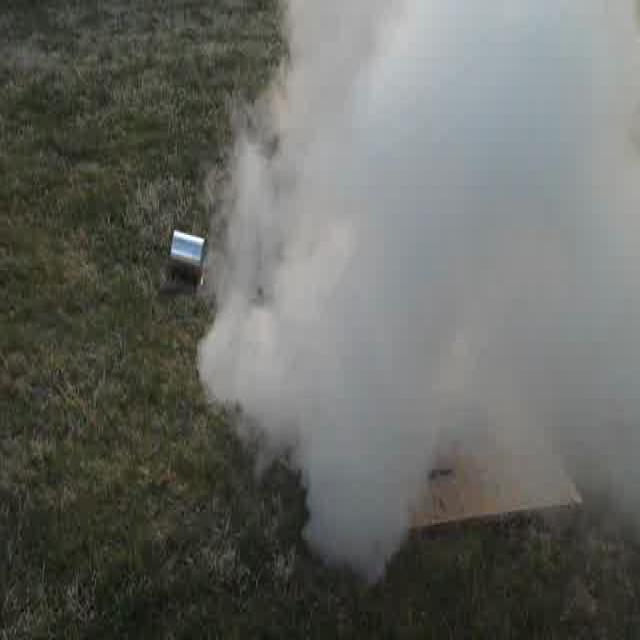Smoke: (250, 5, 636, 557)
